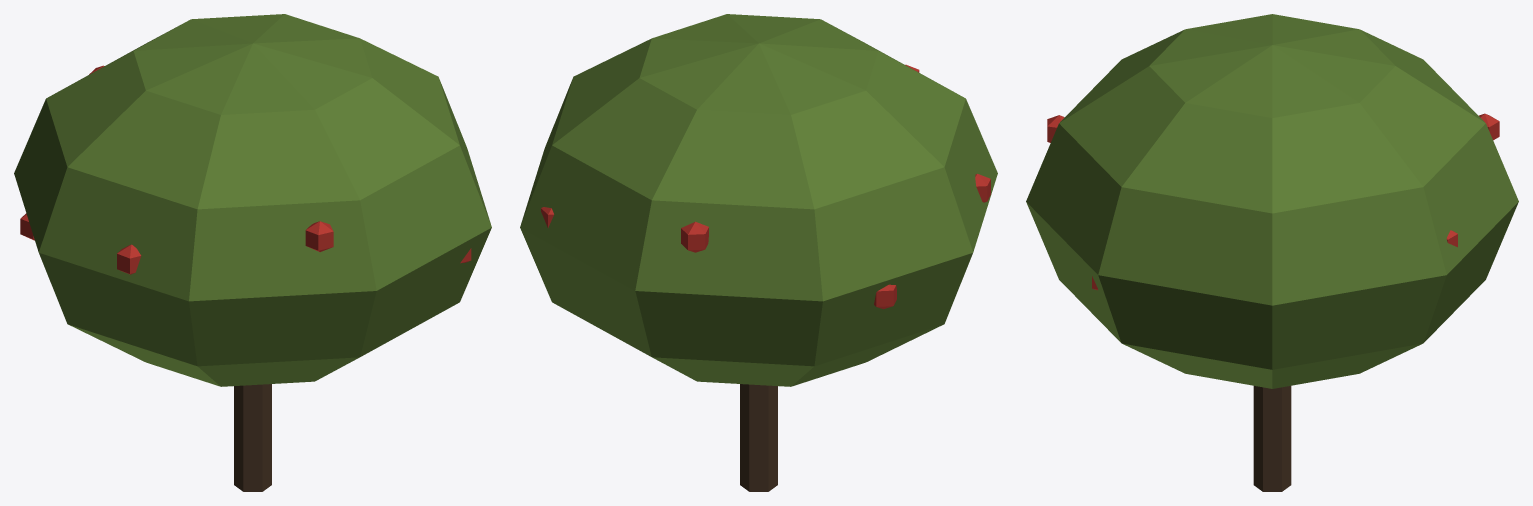
The model's file is macieira.glb.
3 views of the same model, side by side, from view 1: azimuth 30°, elevation 25°; view 2: azimuth 150°, elevation 25°; view 3: azimuth 270°, elevation 25° (orthographic).
Parts seen in each view (by area): view 1: Arvore.002; view 2: Arvore.002; view 3: Arvore.002.
Part boxes in pixels (x1,y1,x2,y2): Arvore.002: [14, 14, 491, 491]; Arvore.002: [520, 14, 997, 491]; Arvore.002: [1026, 14, 1518, 491].
Bounding box in the file's own units: 5.2 × 5.12 × 5.2.
